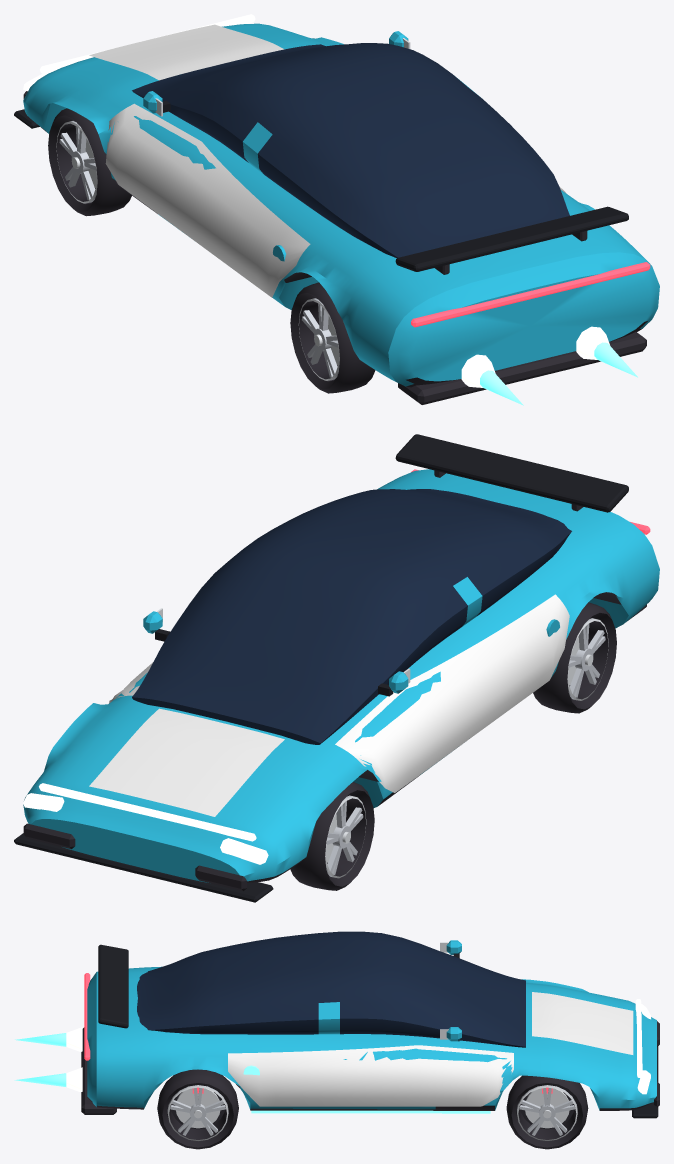
The model's file is car_electric.glb.
The picture shows the model from 3 angles, top to bottom: view 1: azimuth 30°, elevation 25°; view 2: azimuth 150°, elevation 25°; view 3: azimuth 270°, elevation 25°; orthographic projection. The views are drawn at different scales.
Visible parts, largest first — view 1: Body, Vinyl, WheelRL, WheelFL, Spoiler, NitroFlame; view 2: Body, Vinyl, Spoiler, WheelFL, WheelRL; view 3: Body, Vinyl, WheelRR, WheelFR, Spoiler, NitroFlame.
Part boxes in pixels (left/top/right/bottom): Body: left=14, top=14, right=659, bottom=404; Vinyl: left=89, top=24, right=566, bottom=297; WheelRL: left=290, top=282, right=375, bottom=393; WheelFL: left=48, top=108, right=131, bottom=216; Spoiler: left=395, top=206, right=628, bottom=274; NitroFlame: left=461, top=326, right=637, bottom=405; Body: left=14, top=469, right=659, bottom=902; Vinyl: left=89, top=594, right=569, bottom=816; Spoiler: left=395, top=434, right=628, bottom=512; WheelFL: left=290, top=782, right=374, bottom=890; WheelRL: left=533, top=602, right=616, bottom=713; Body: left=81, top=931, right=659, bottom=1118; Vinyl: left=228, top=992, right=633, bottom=1106; WheelRR: left=157, top=1069, right=238, bottom=1149; WheelFR: left=506, top=1075, right=588, bottom=1149; Spoiler: left=98, top=944, right=128, bottom=1028; NitroFlame: left=14, top=1027, right=82, bottom=1092.
Size of the model in its own units: 1.99 by 1.4 by 5.42.
